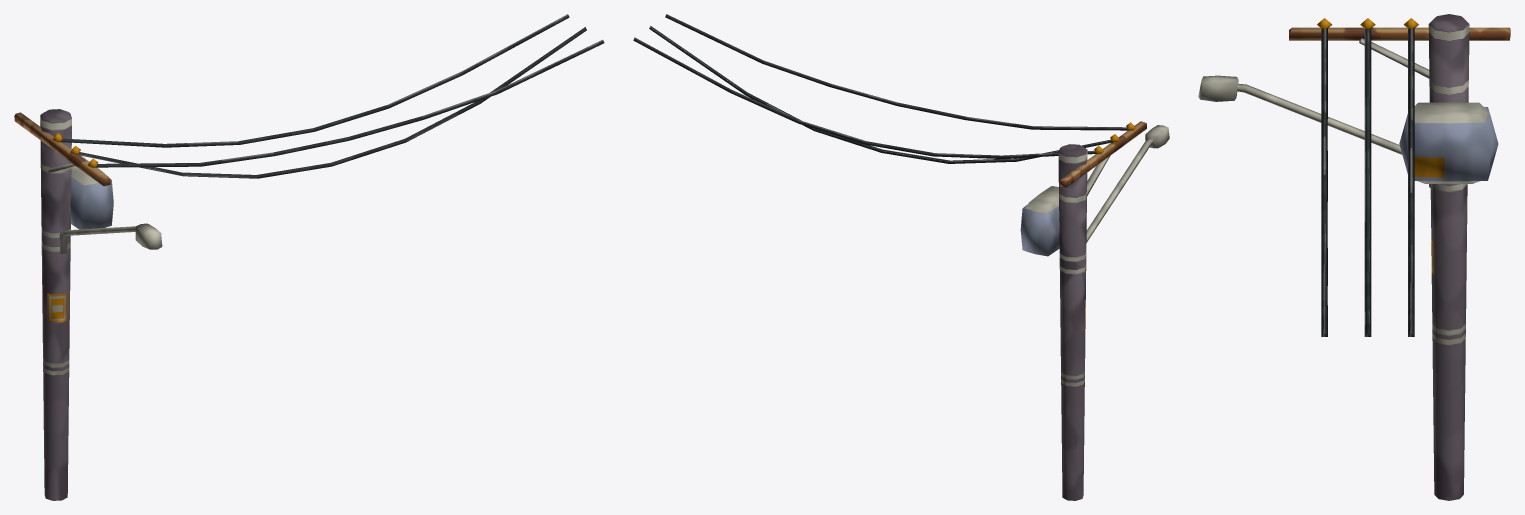
Rendered from LampPost(NoShoes).fbx.
The picture shows the model from 3 angles, left to right: view 1: azimuth 30°, elevation 25°; view 2: azimuth 150°, elevation 25°; view 3: azimuth 270°, elevation 25°; orthographic projection. The views are drawn at different scales.
Visible parts, largest first — view 1: LampPost; view 2: LampPost; view 3: LampPost.
Part boxes in pixels (x1,y1,x2,y2): LampPost: (14,14,604,500); LampPost: (633,14,1169,500); LampPost: (1198,14,1510,500).
Bounding box in the file's own units: 500 × 708 × 299.
